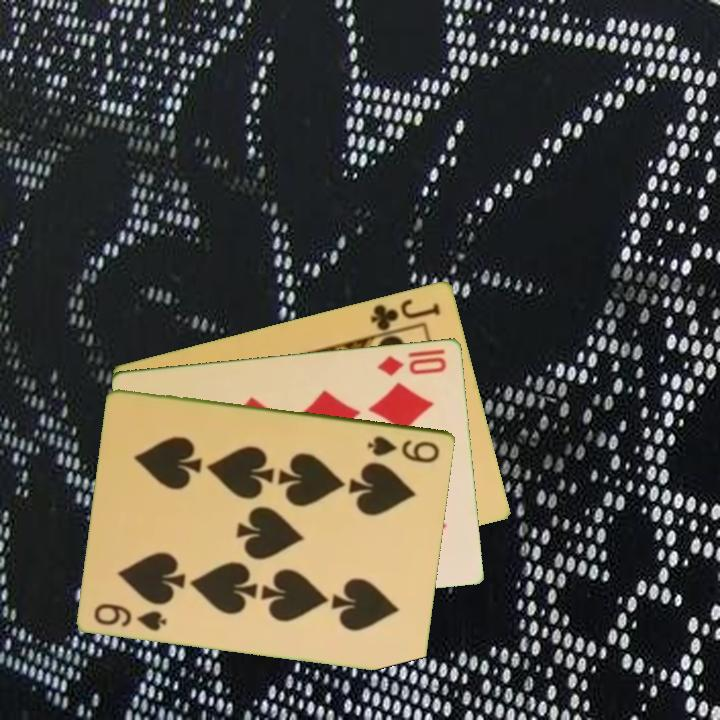10d: (374, 352, 450, 378)
9s: (91, 599, 170, 634), (364, 432, 443, 466)
Jc: (367, 294, 444, 333)
